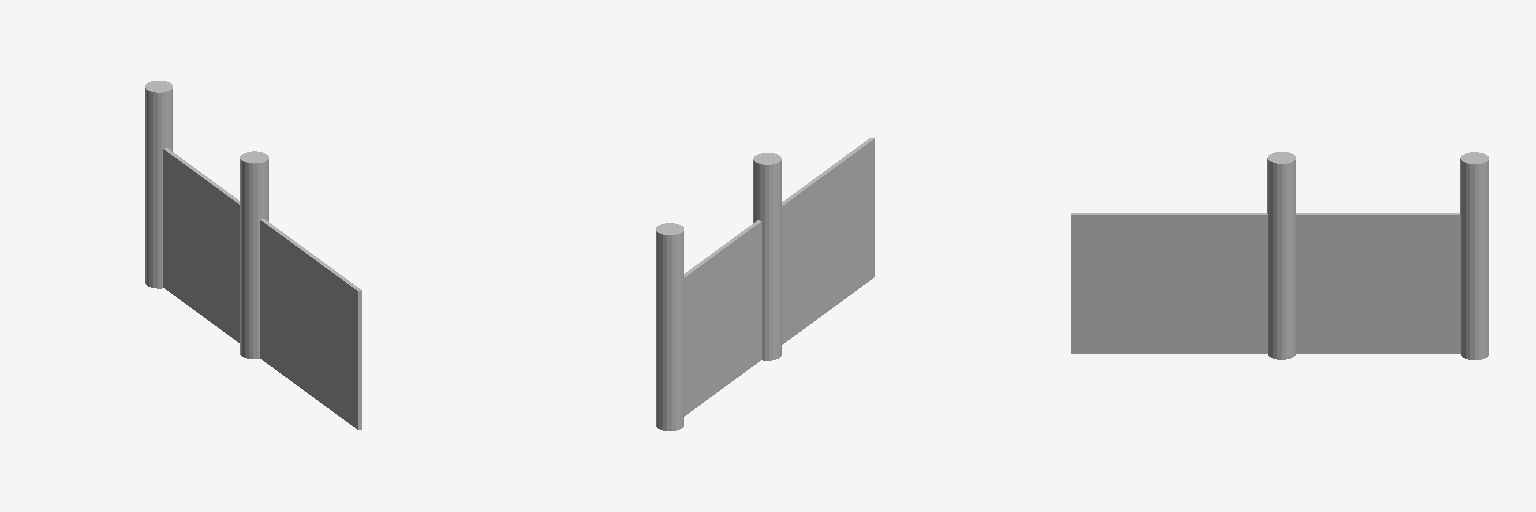
Rendered from walldouble2.obj.
The picture shows the model from 3 angles: view 1: azimuth 30°, elevation 25°; view 2: azimuth 150°, elevation 25°; view 3: azimuth 270°, elevation 25°; orthographic projection.
Visible parts, largest first — view 1: walldouble2; view 2: walldouble2; view 3: walldouble2.
Boxes of the visible parts, box(x1,y1,x2,y2) form: walldouble2: box(145, 81, 361, 429); walldouble2: box(656, 138, 874, 430); walldouble2: box(1071, 152, 1488, 359).
Size of the model in its own units: 3.41 by 24.63 by 47.66.